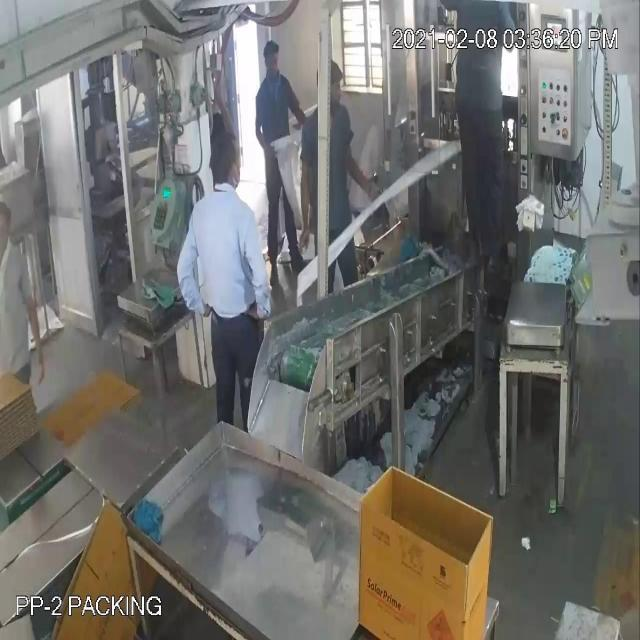No_Gloves: (32, 59, 355, 338)
